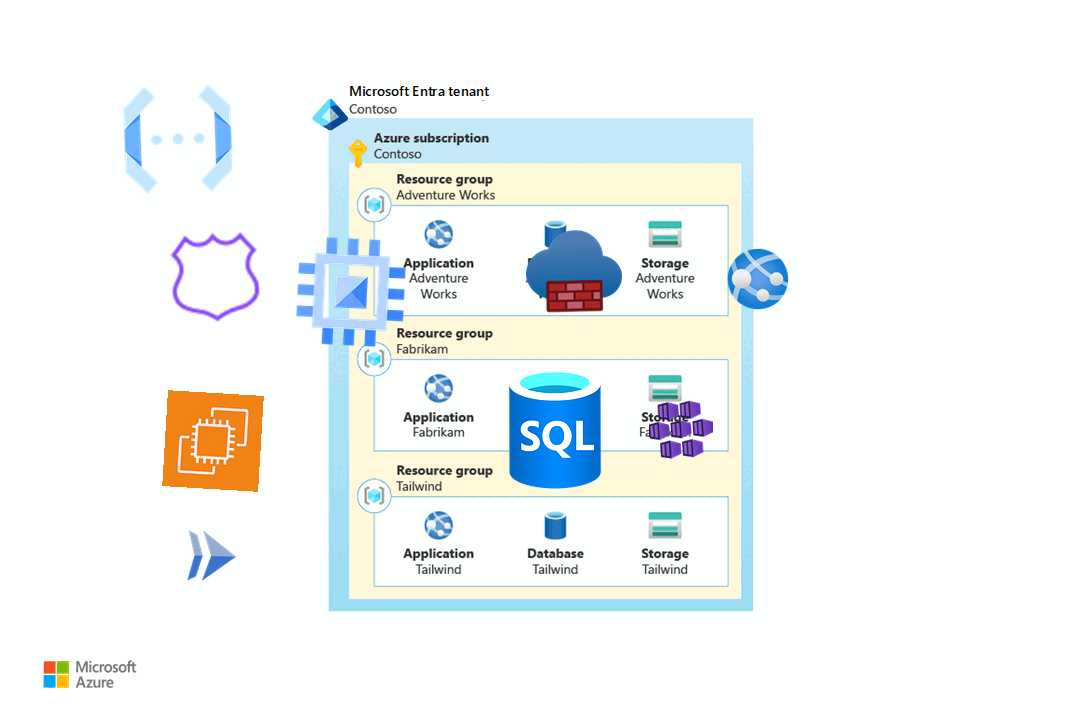aws_amazon_ec2: (162, 390, 264, 492)
aws_route_53_hosted_zone: (165, 226, 267, 328)
azure_app_services: (724, 245, 792, 313)
azure_firewalls: (524, 221, 624, 321)
azure_kubernetes_services: (646, 394, 716, 464)
azure_sql_database: (490, 363, 620, 493)
gcp_cloud_functions: (111, 72, 245, 206)
gcp_cloud_run: (178, 523, 244, 589)
gcp_compute_engine: (283, 224, 419, 360)
